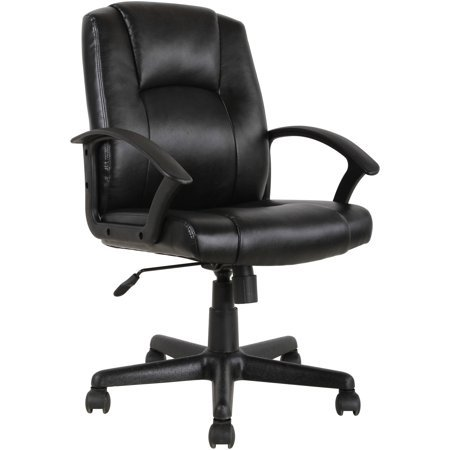chairs: (70, 4, 383, 450)
